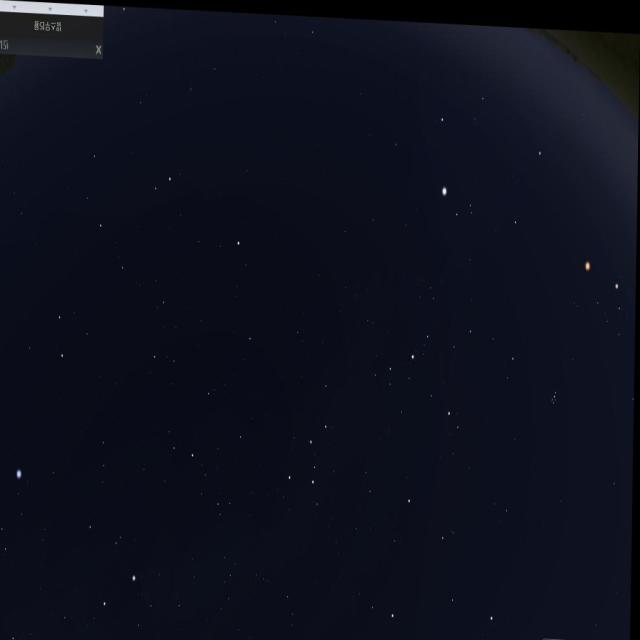pleiades: (546, 365, 568, 415)
